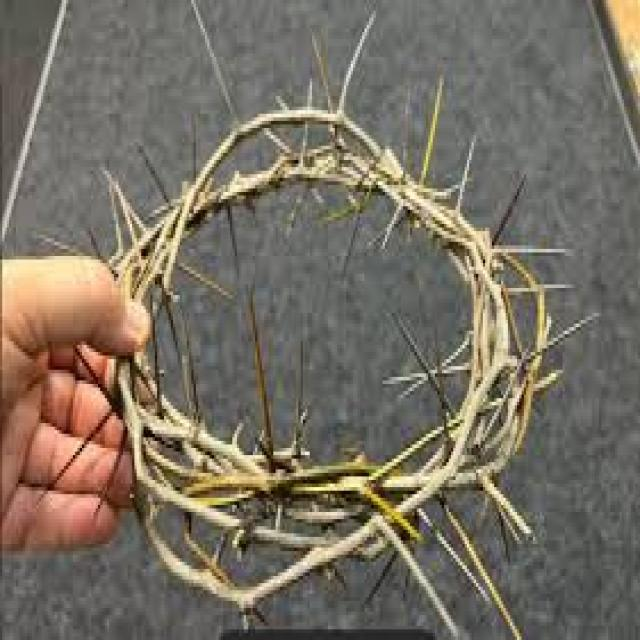crown: (90, 53, 546, 588)
